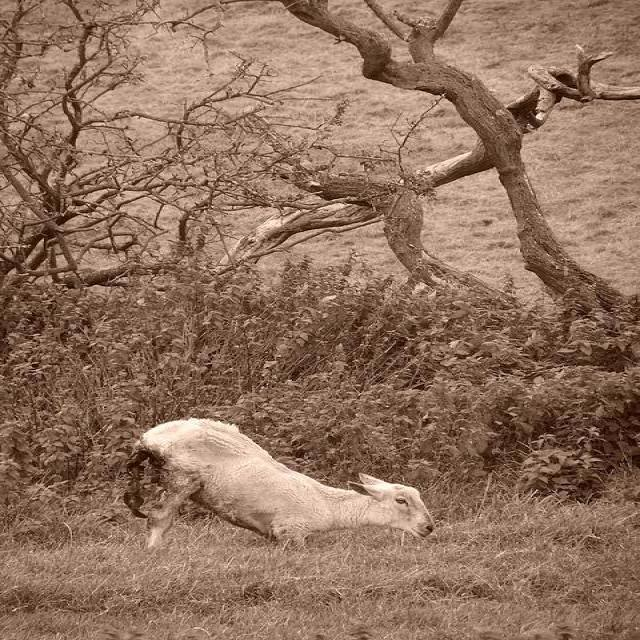Sheep: (122, 416, 442, 552)
